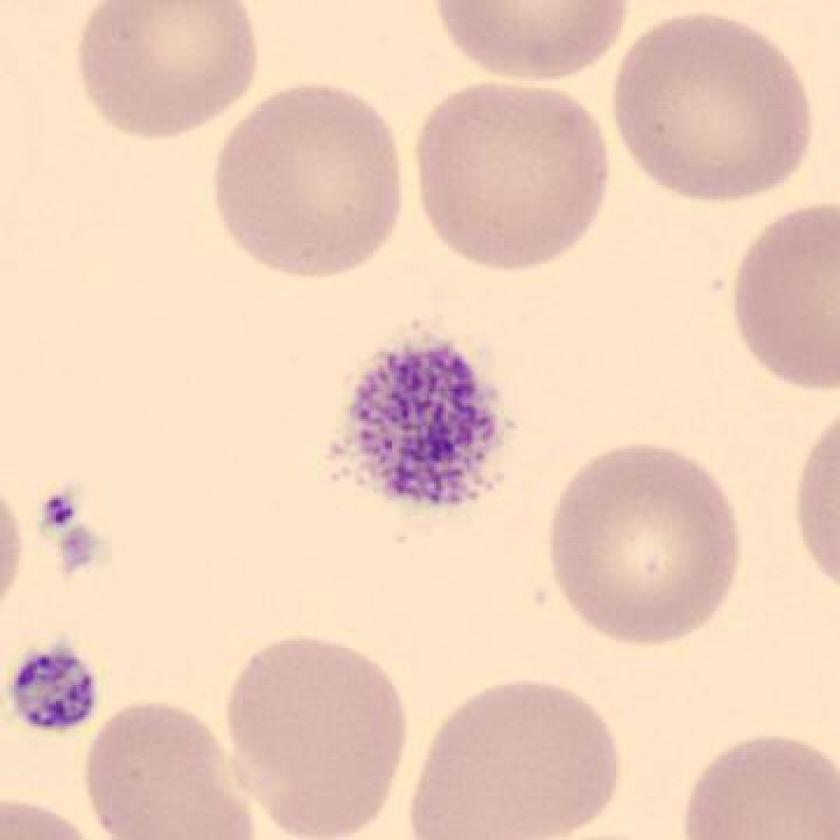platelets: (335, 325, 517, 524), (13, 635, 97, 739)
